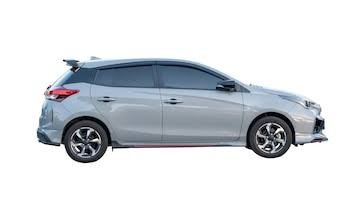car: (37, 57, 331, 163)
